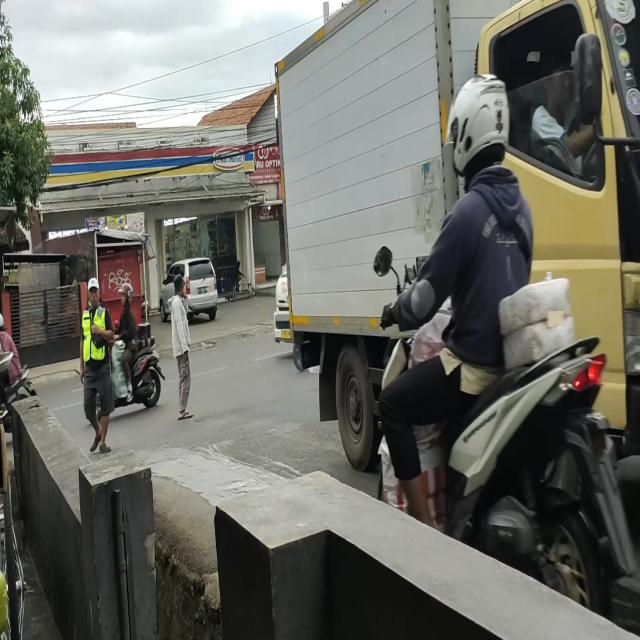helmet: (449, 76, 508, 171), (118, 282, 134, 304)
